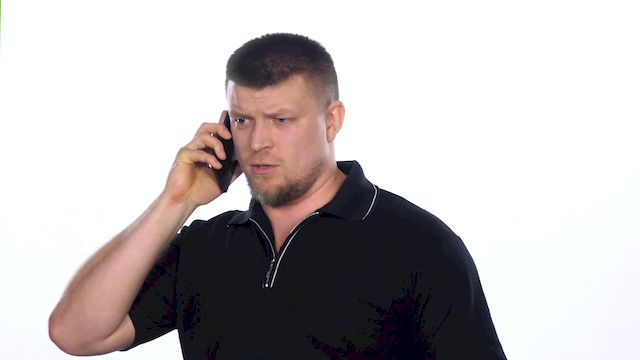phone: (204, 118, 239, 197)
talk: (168, 98, 319, 209)
